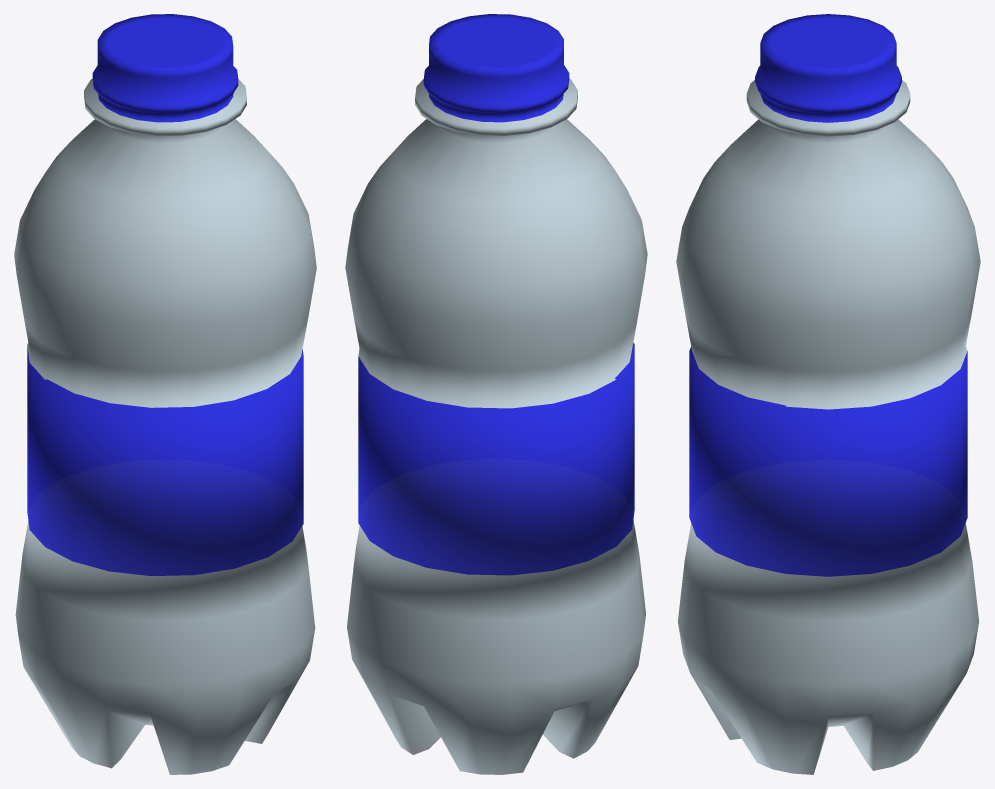
The model's file is Bottle_Vertical.fbx.
The picture shows the model from 3 angles, left to right: view 1: azimuth 30°, elevation 25°; view 2: azimuth 150°, elevation 25°; view 3: azimuth 270°, elevation 25°; orthographic projection.
Visible parts, largest first — view 1: Plastic Bottle - Vertical; view 2: Plastic Bottle - Vertical; view 3: Plastic Bottle - Vertical.
Boxes of the visible parts, x1,y1,x2,y2 form: Plastic Bottle - Vertical: [14, 14, 316, 774]; Plastic Bottle - Vertical: [345, 14, 647, 774]; Plastic Bottle - Vertical: [676, 14, 980, 774].
Size of the model in its own units: 128 by 321 by 128.
